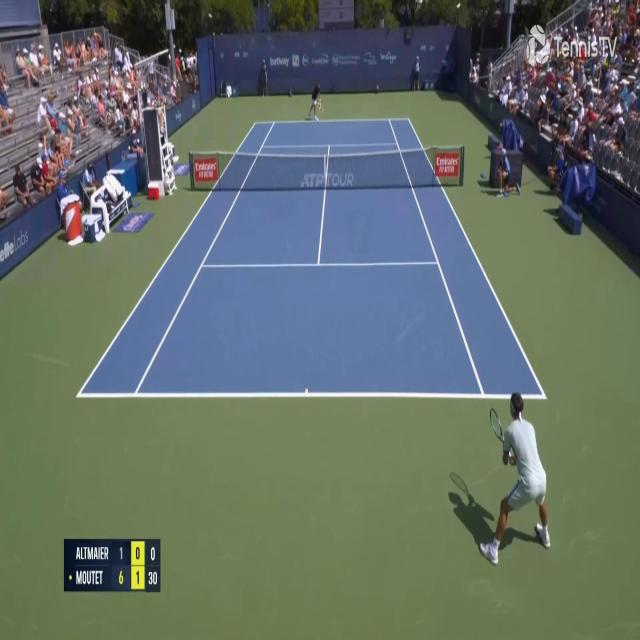tennis-player: (484, 316, 554, 565), (308, 80, 324, 123)
